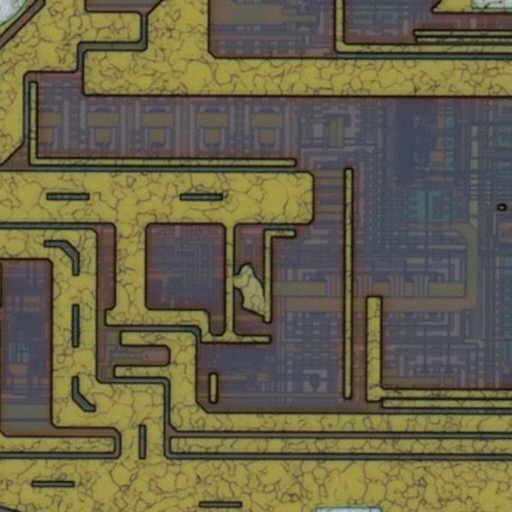BLOCK ETCH: (224, 257, 279, 322)
